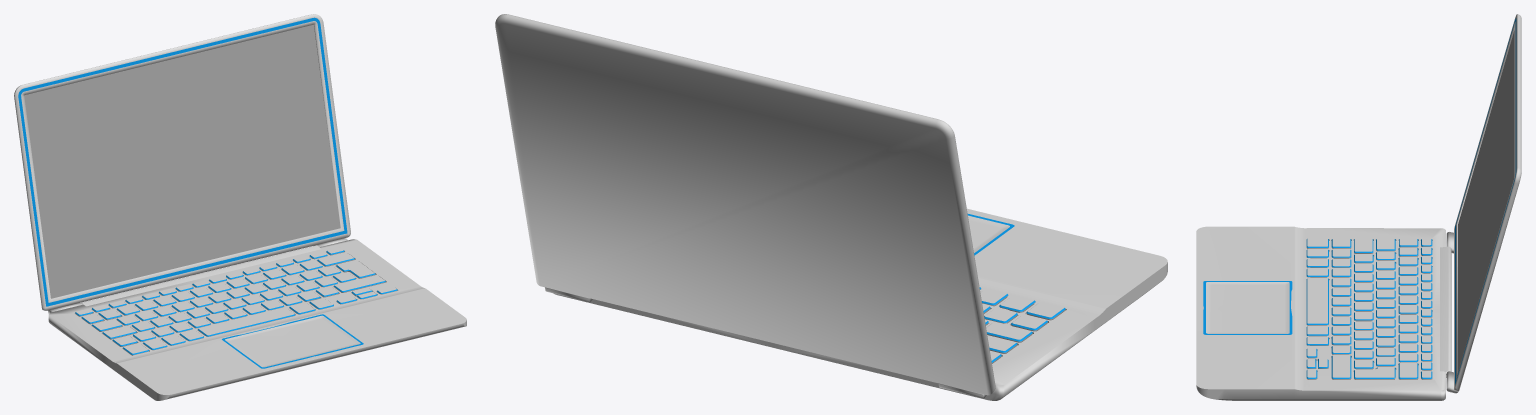
The model's file is SM_Portatiles.fbx.
3 renders of one model, left to right at view 1: azimuth 30°, elevation 25°; view 2: azimuth 150°, elevation 25°; view 3: azimuth 270°, elevation 25°, orthographic. The views are drawn at different scales.
Visible parts, largest first — view 1: Portatil_screen, Portatil_body, Portatil_details; view 2: Portatil_body, Portatil_details; view 3: Portatil_body, Portatil_screen, Portatil_details.
Part boxes in pixels (x1,y1,x2,y2): Portatil_screen: [24, 24, 340, 298]; Portatil_body: [14, 14, 466, 400]; Portatil_details: [18, 17, 397, 368]; Portatil_body: [495, 14, 1167, 400]; Portatil_details: [967, 214, 1065, 362]; Portatil_body: [1196, 14, 1521, 400]; Portatil_screen: [1458, 30, 1514, 371]; Portatil_details: [1203, 18, 1516, 384].
Size of the model in its own units: 37.34 by 24.67 by 31.61.
